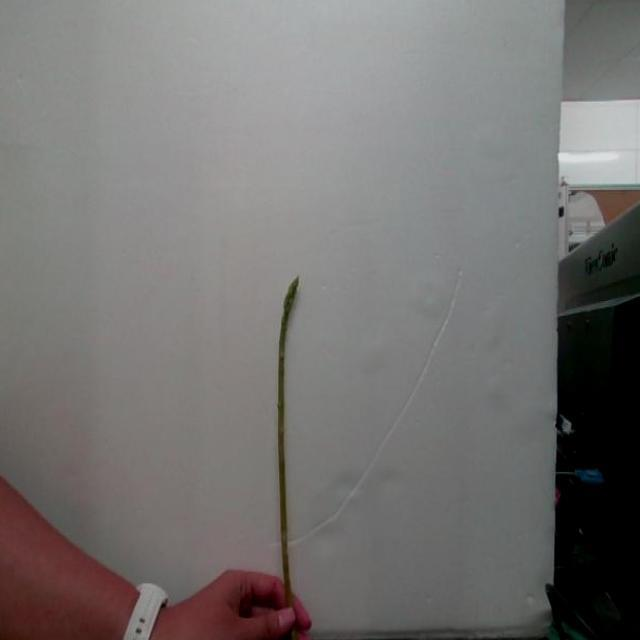aspargus: (276, 279, 302, 613)
